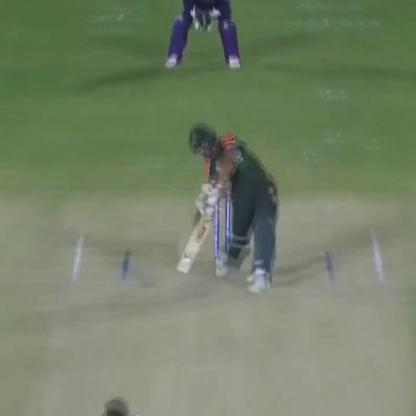ball: (176, 253, 193, 270)
bat: (168, 188, 226, 276)
pitch: (29, 225, 407, 416)
